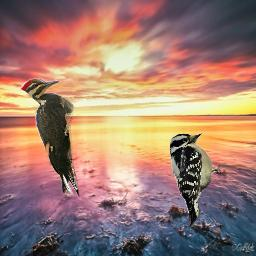Woodpecker: (20, 78, 80, 198), (168, 131, 227, 228)
